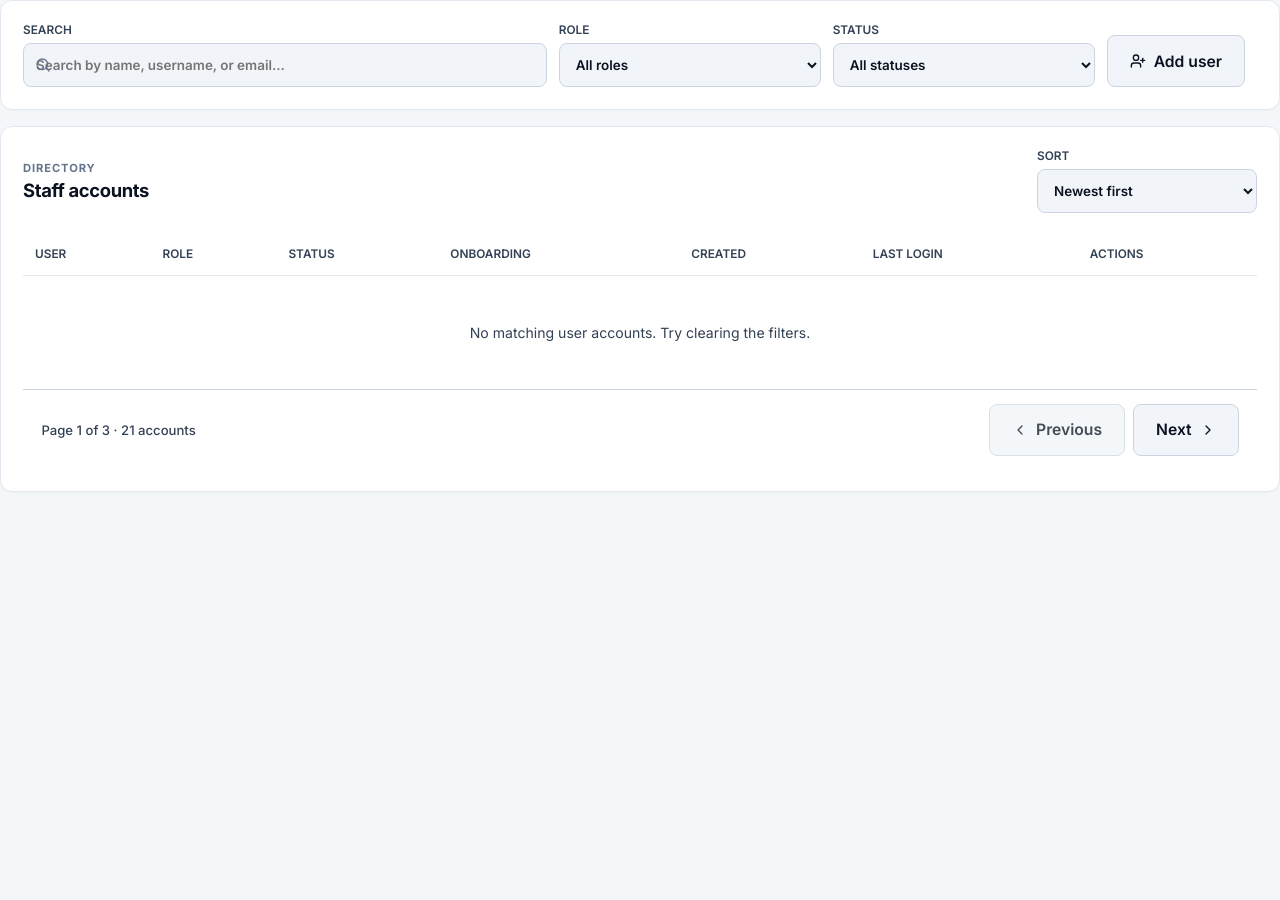
Scenario: adds a user without credentials and reports unconfirmed email without losing the account
Click the button "Add user".
click(1176, 61)  # box x1=1107 y1=35 x2=1245 y2=87
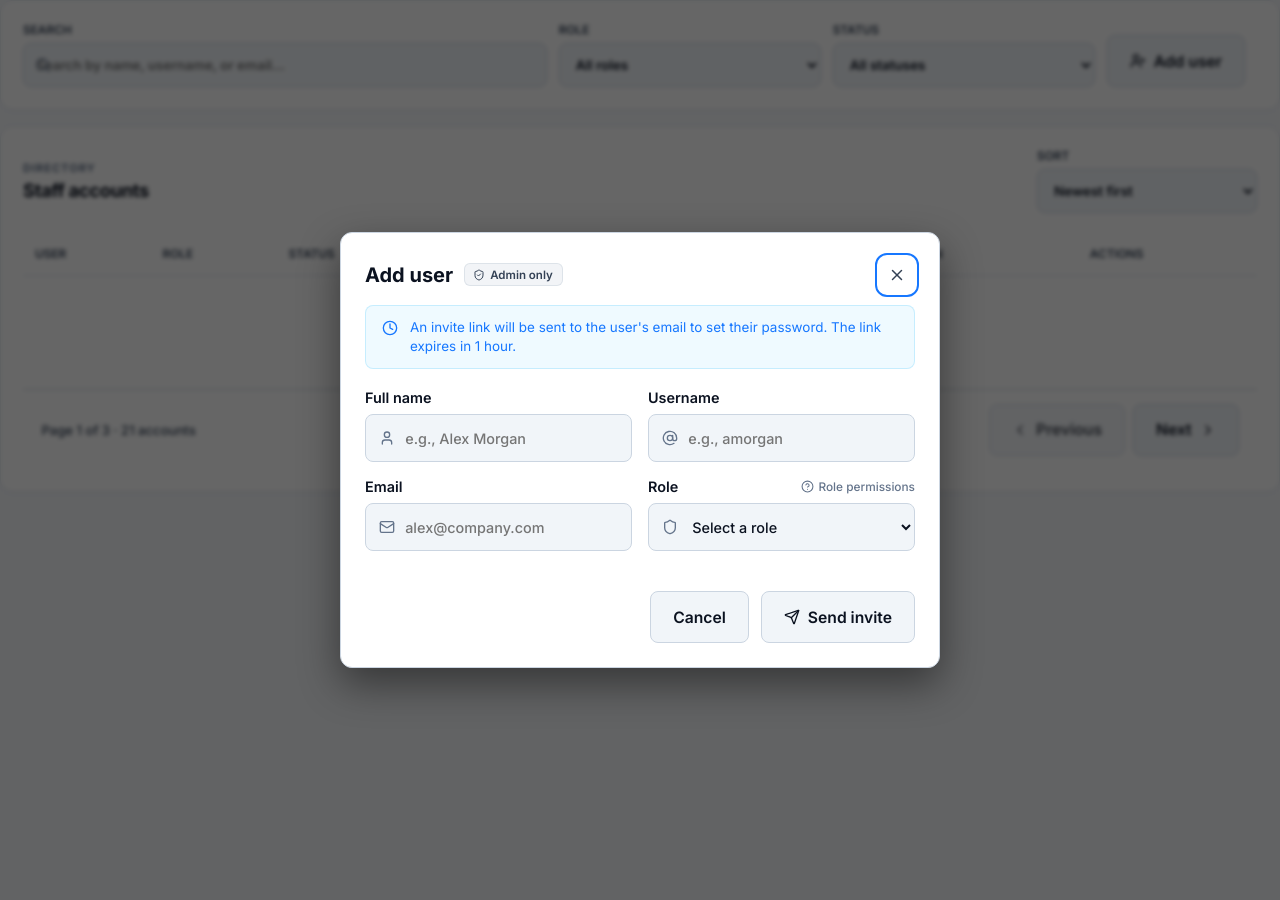
Type "New Operator" into the field labelled "Full name".
click(498, 438); type("New Operator")  # box x1=365 y1=414 x2=632 y2=462
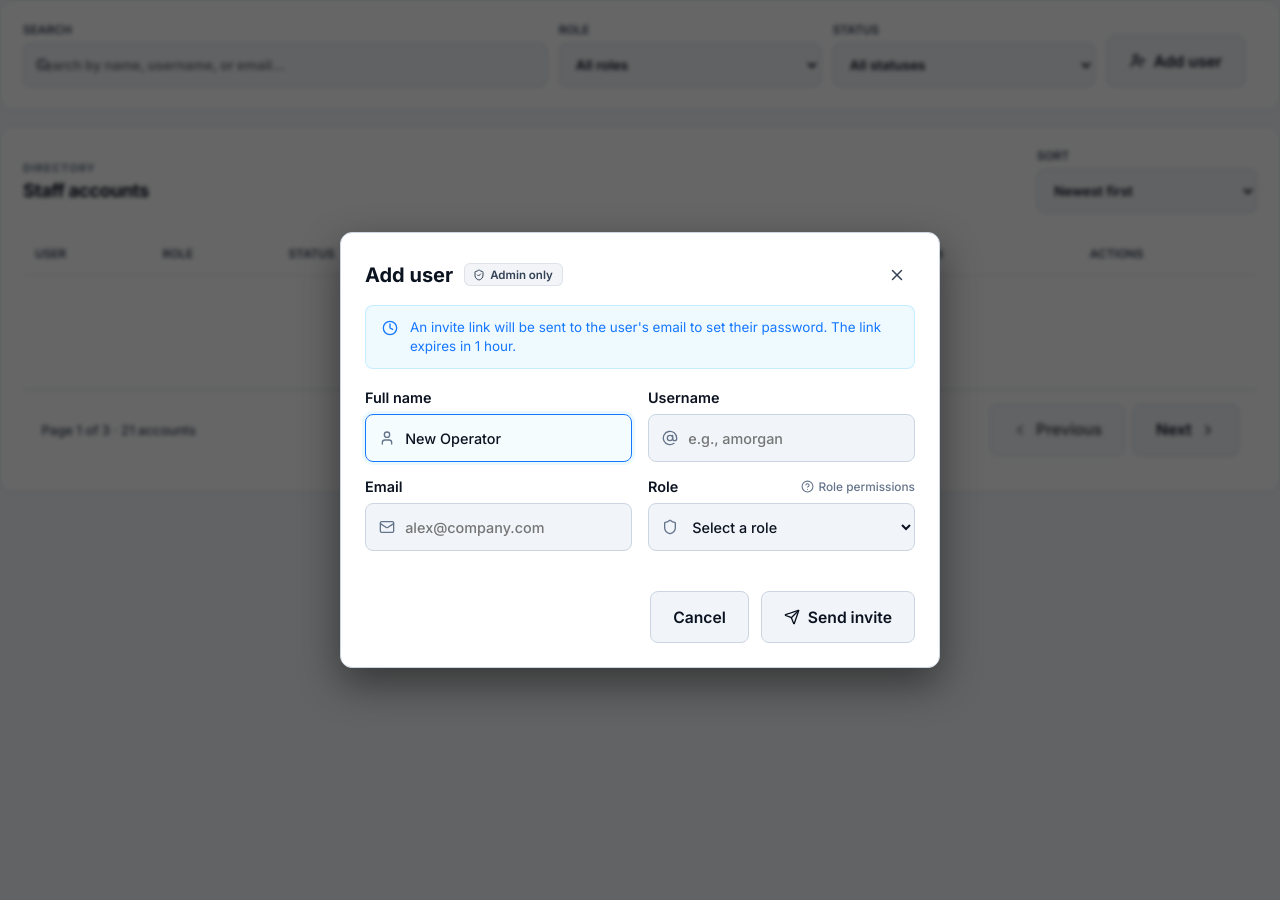
Type "operator" into the field labelled "Username".
click(782, 438); type("operator")  # box x1=648 y1=414 x2=915 y2=462
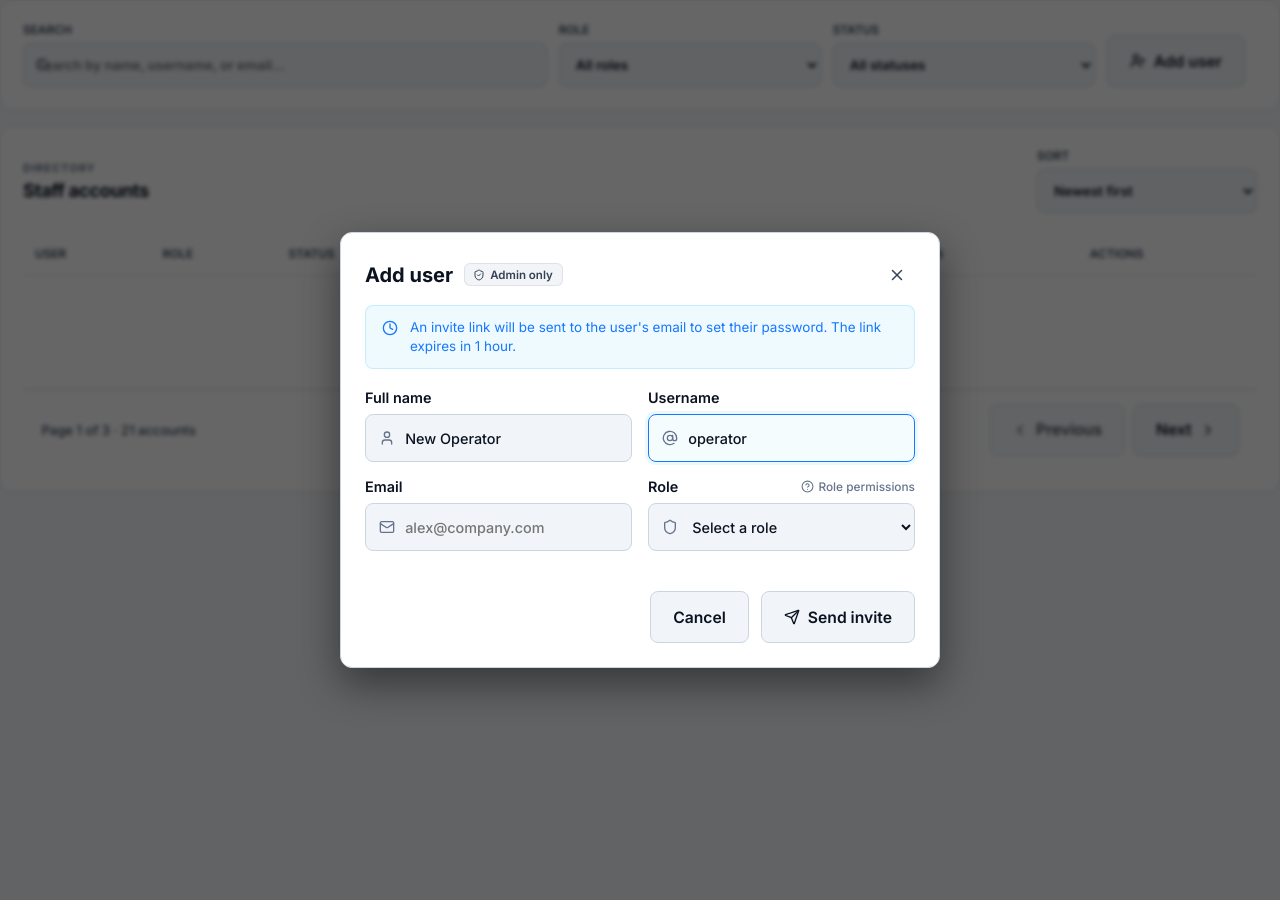
Type "operator@example.test" into the field labelled "Email".
click(498, 528); type("operator@example.test")  # box x1=365 y1=504 x2=632 y2=552
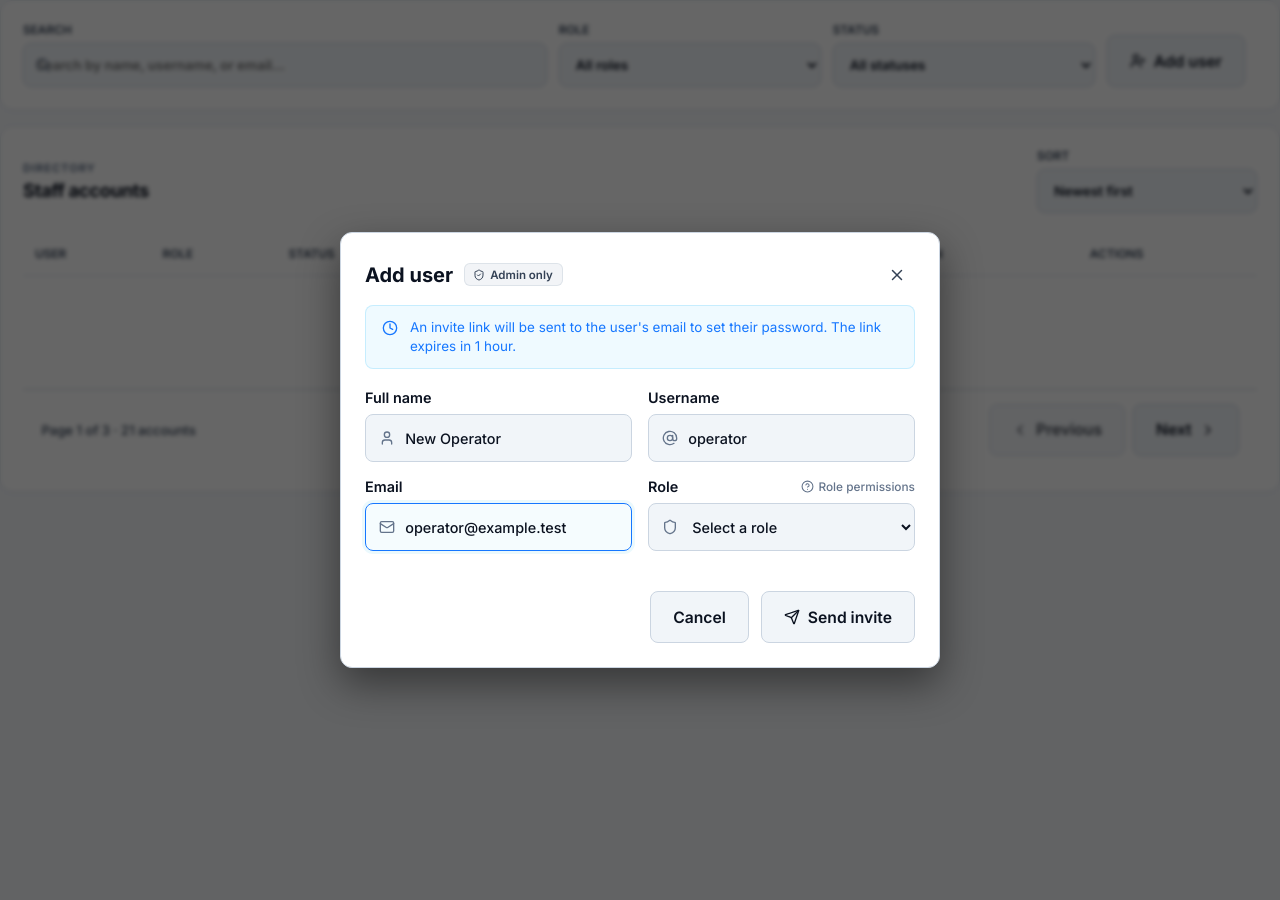
Select "Production Supervisor" in the dropdown labelled "Role" at (782, 528), box x1=648 y1=504 x2=915 y2=552
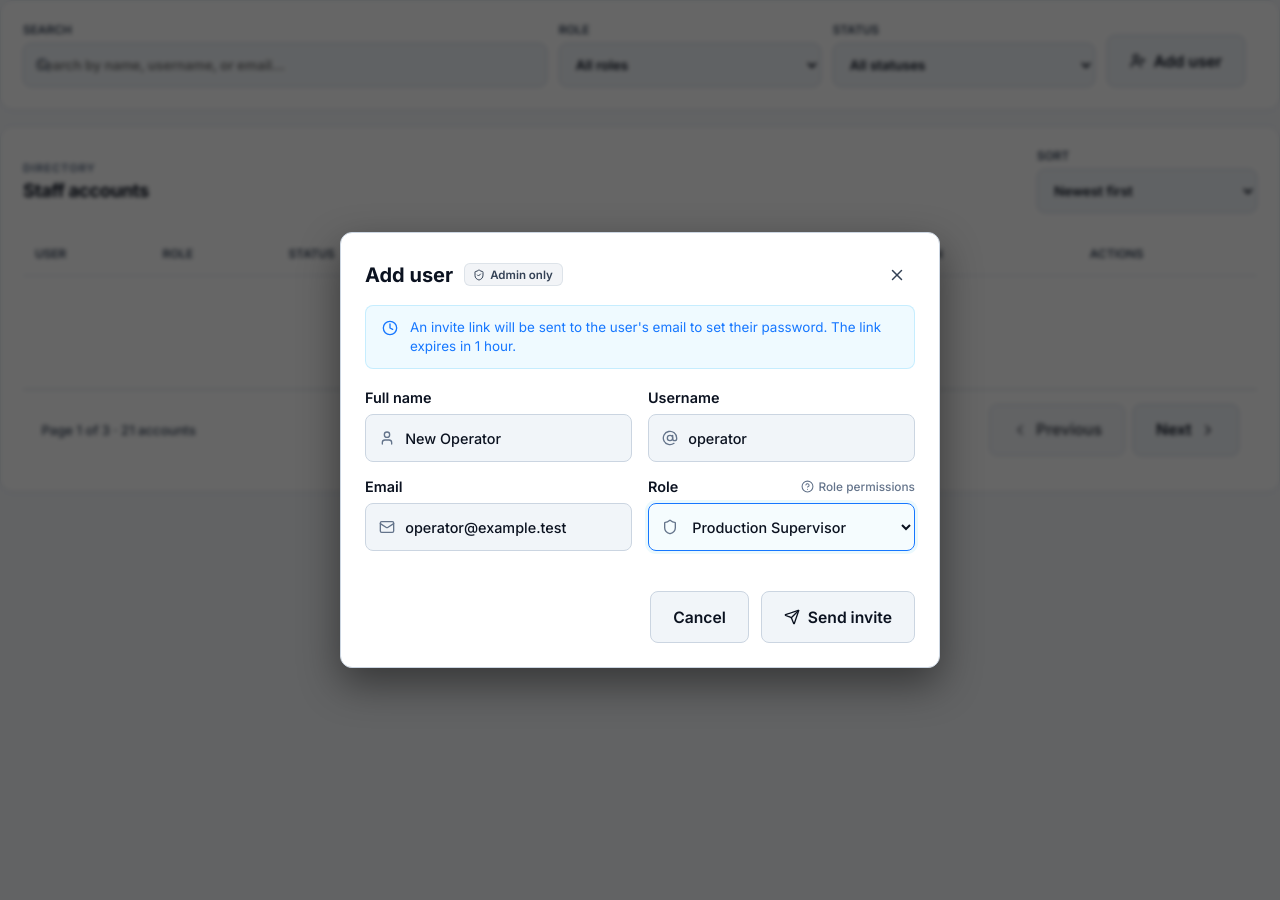
Click the button "Send invite".
click(838, 618)  # box x1=761 y1=592 x2=915 y2=644
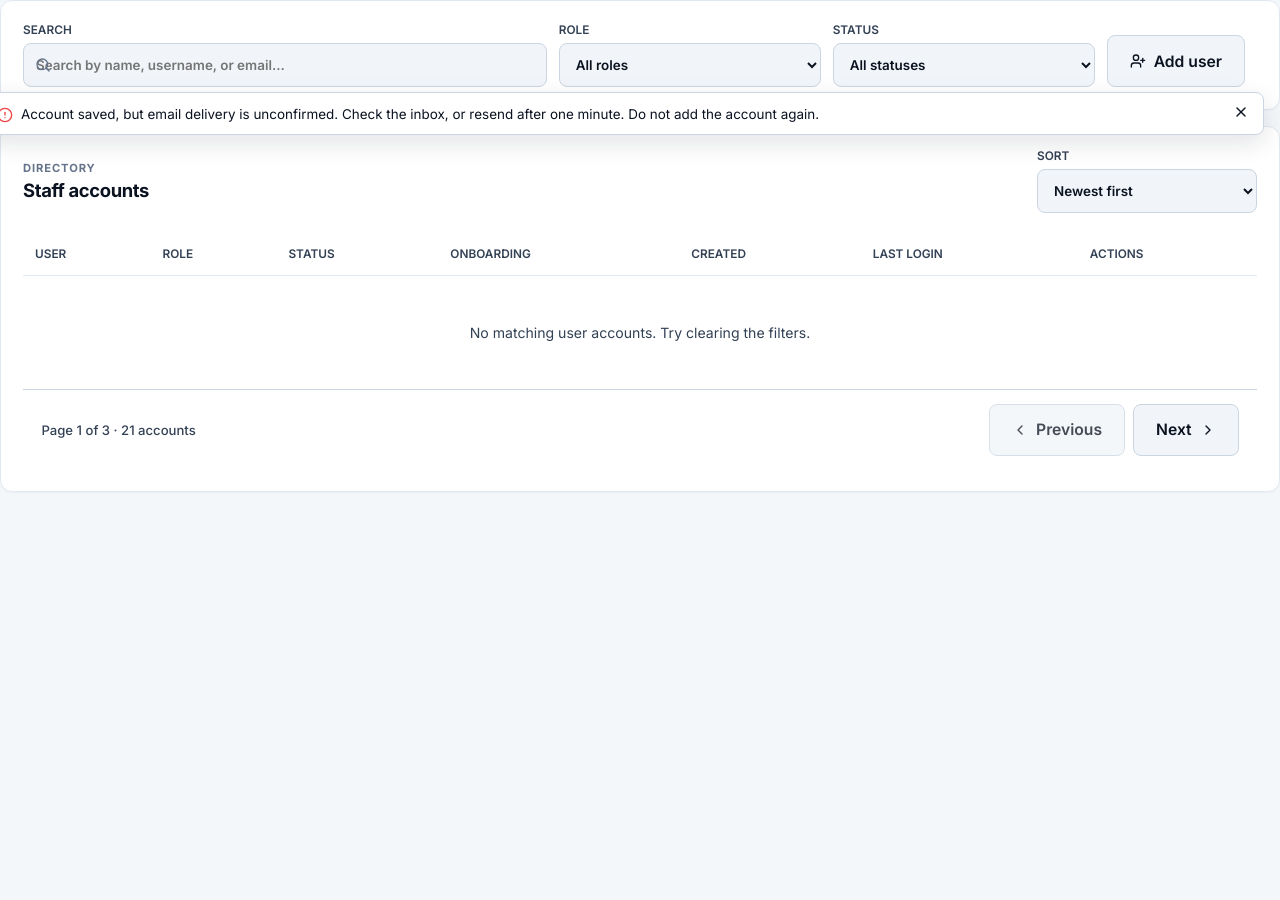
Now the dialog is gone
Now the message shows "Account saved, but email delivery is unconfirmed", box x1=21 y1=106 x2=819 y2=122
